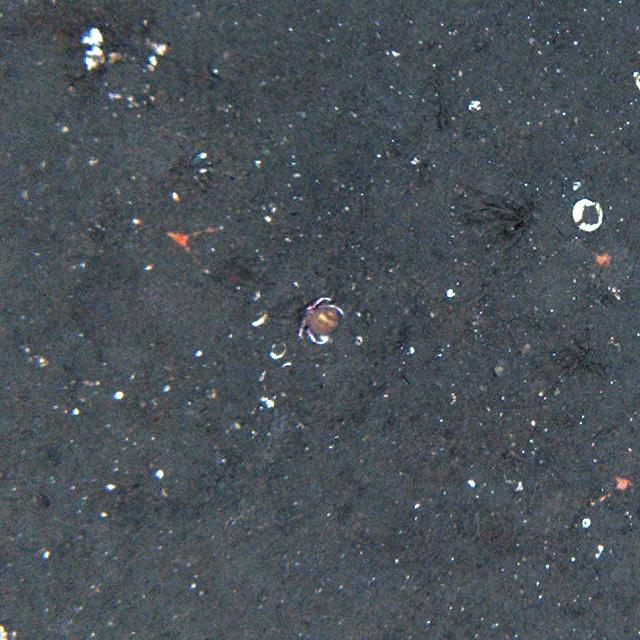crab: (299, 294, 344, 343)
